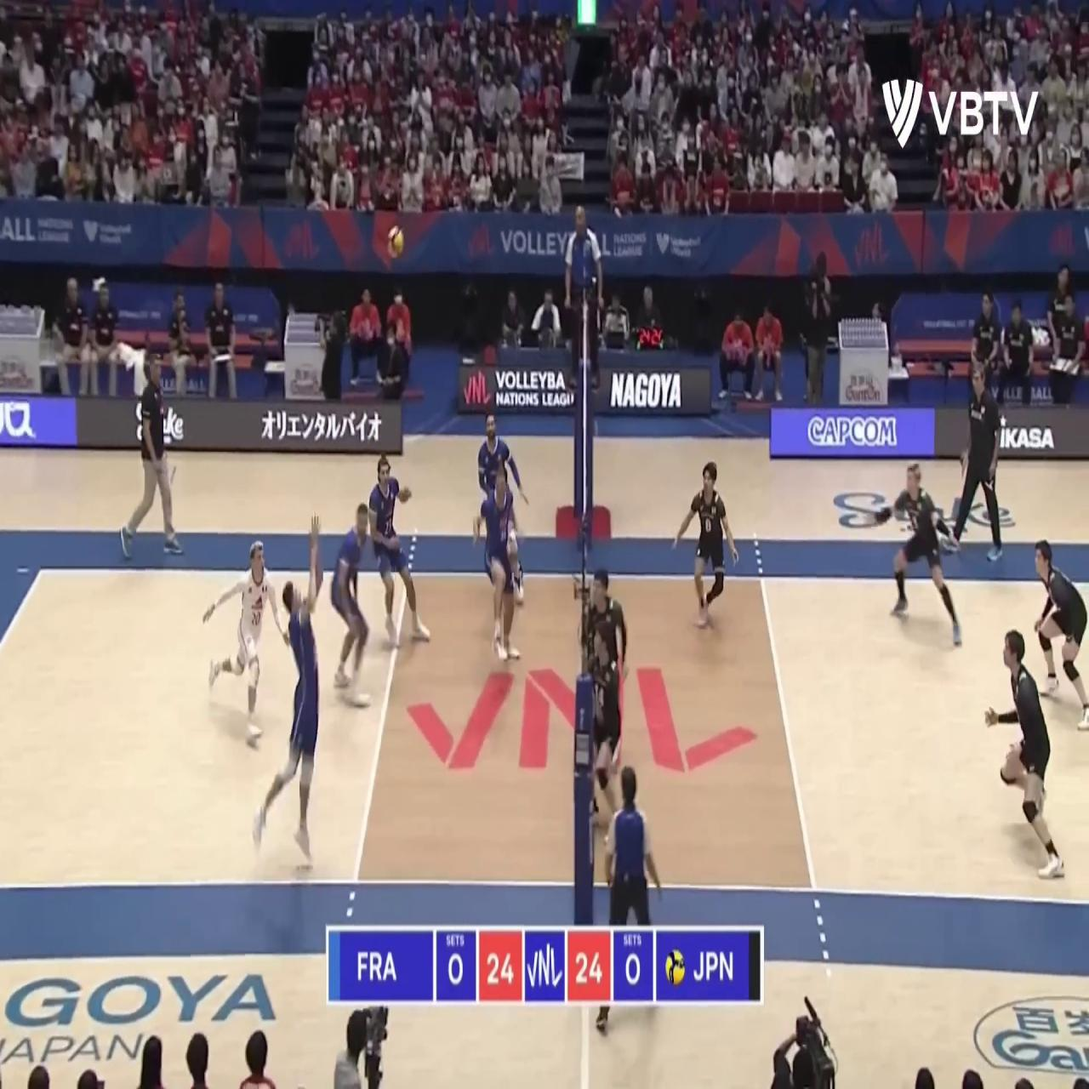ball: (386, 227, 405, 260)
